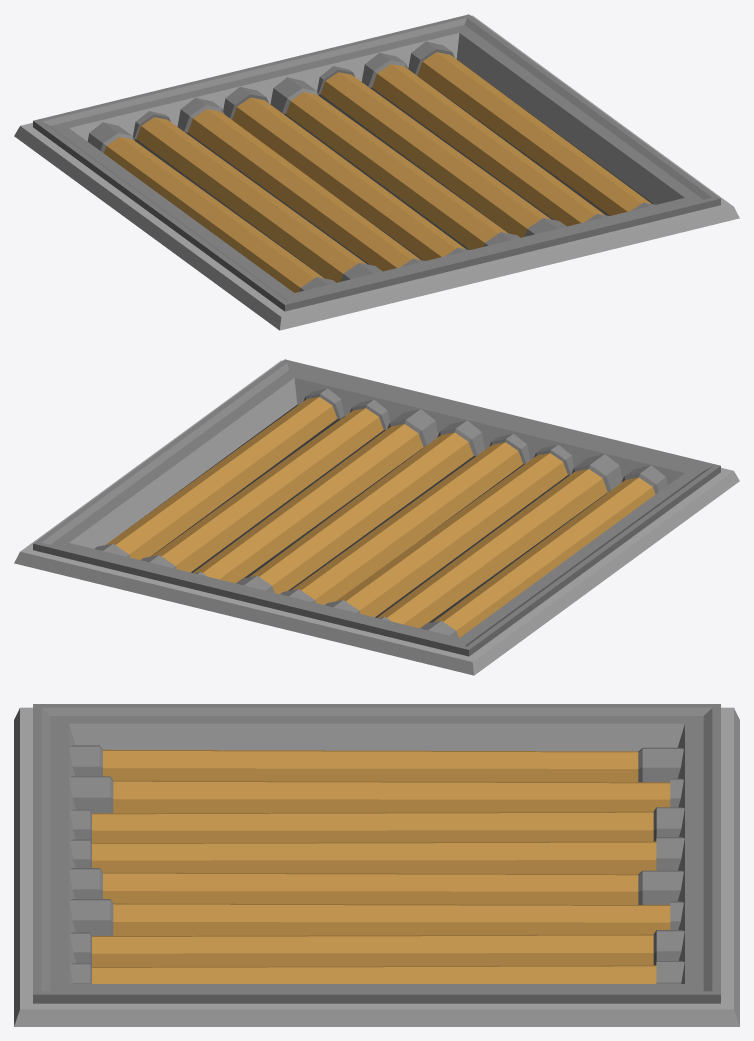
The model's file is RoofTile_Pipes1.gltf.
3 views of the same model, one above another, from view 1: azimuth 30°, elevation 25°; view 2: azimuth 150°, elevation 25°; view 3: azimuth 270°, elevation 25° (orthographic). The views are drawn at different scales.
Visible parts, largest first — view 1: RoofTile_Pipes1; view 2: RoofTile_Pipes1; view 3: RoofTile_Pipes1.
Part boxes in pixels (<box>): RoofTile_Pipes1: <box>14,14,739,330</box>; RoofTile_Pipes1: <box>14,359,739,675</box>; RoofTile_Pipes1: <box>14,704,739,1026</box>.
Bounding box in the file's own units: 2 × 0.1133 × 2.
